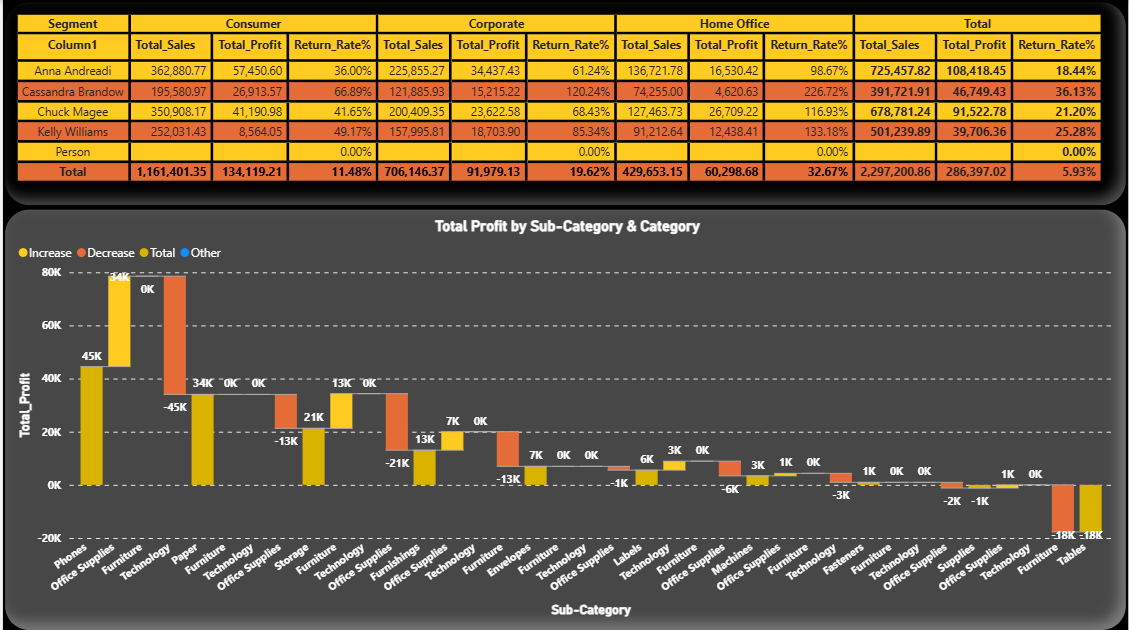

Layout of this report page (visuals, bound fields, positions):
{"tool":"powerbi","page":{"name":"Page 3","canvas":[1280,720],"ordinal":2},"visuals":[{"type":"pivotTable","fields":{"Rows":["People.Column1"],"Columns":["Orders.Segment"],"Values":["Orders.Total_Sales","Orders.Total_Profit","Orders.Return_Rate%"]},"box":[0,0,1280,236.1],"z":0},{"type":"waterfallChart","title":"Total Profit by Sub-Category & Category","fields":{"Category":["Orders.Sub-Category"],"Y":["Orders.Total_Profit"],"Breakdown":["Orders.Category"]},"box":[0,236.1,1280,483.6],"z":1}]}

Visuals, with their boxes in screenshot pixels (x1, y1, x2, y2), scaled from the page's 1280x720 canvas onto the 1129x630 screenshot:
pivotTable - People.Column1 x Orders.Segment: 0 0 1128 207
"Total Profit by Sub-Category & Category" waterfallChart: 0 207 1128 629
